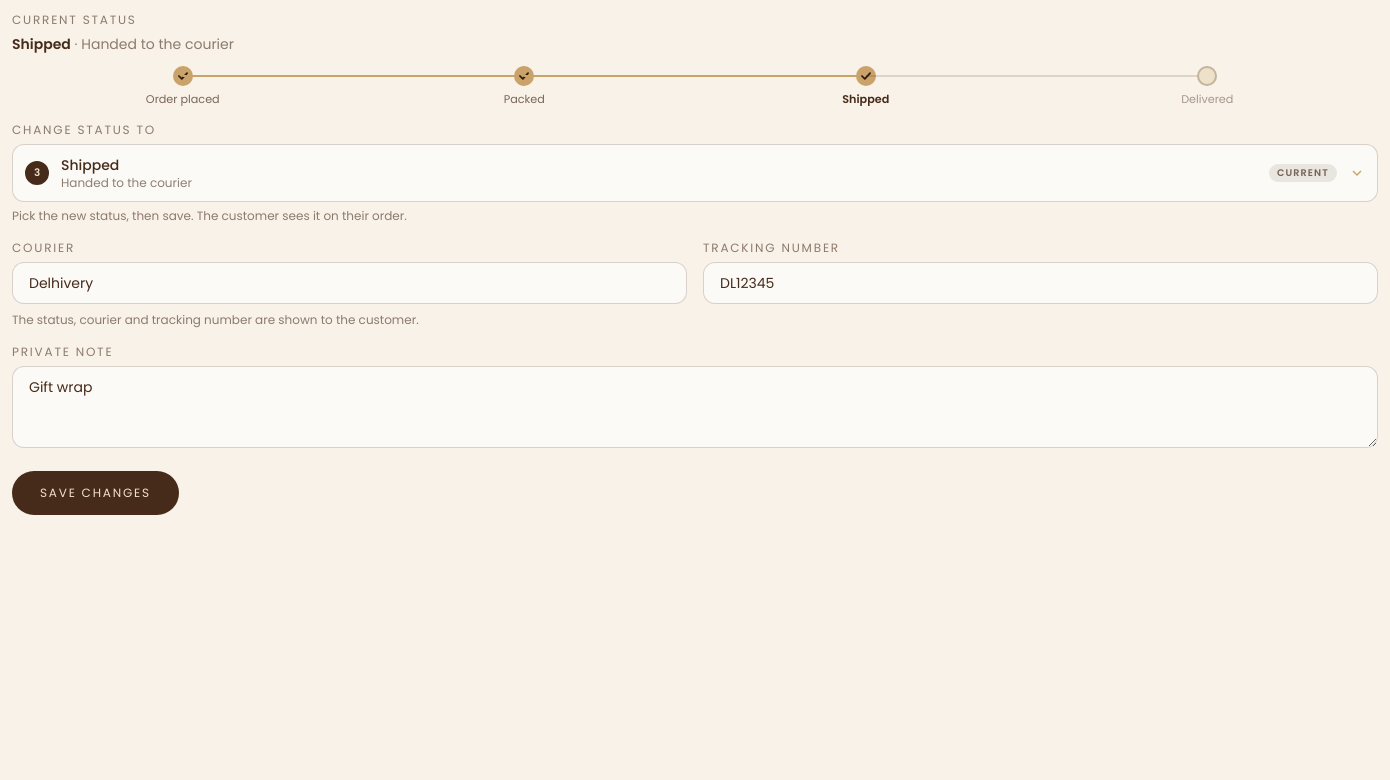
Test case: OrderUpdateForm › moving back a step is pointed out
The width and height of the screenshot is (1390, 780).
What coordinates should you click on to do the following:
click the dropdown named "Change status to"
I would click on:
 (90, 165)
Its box is [12,144,1378,202].
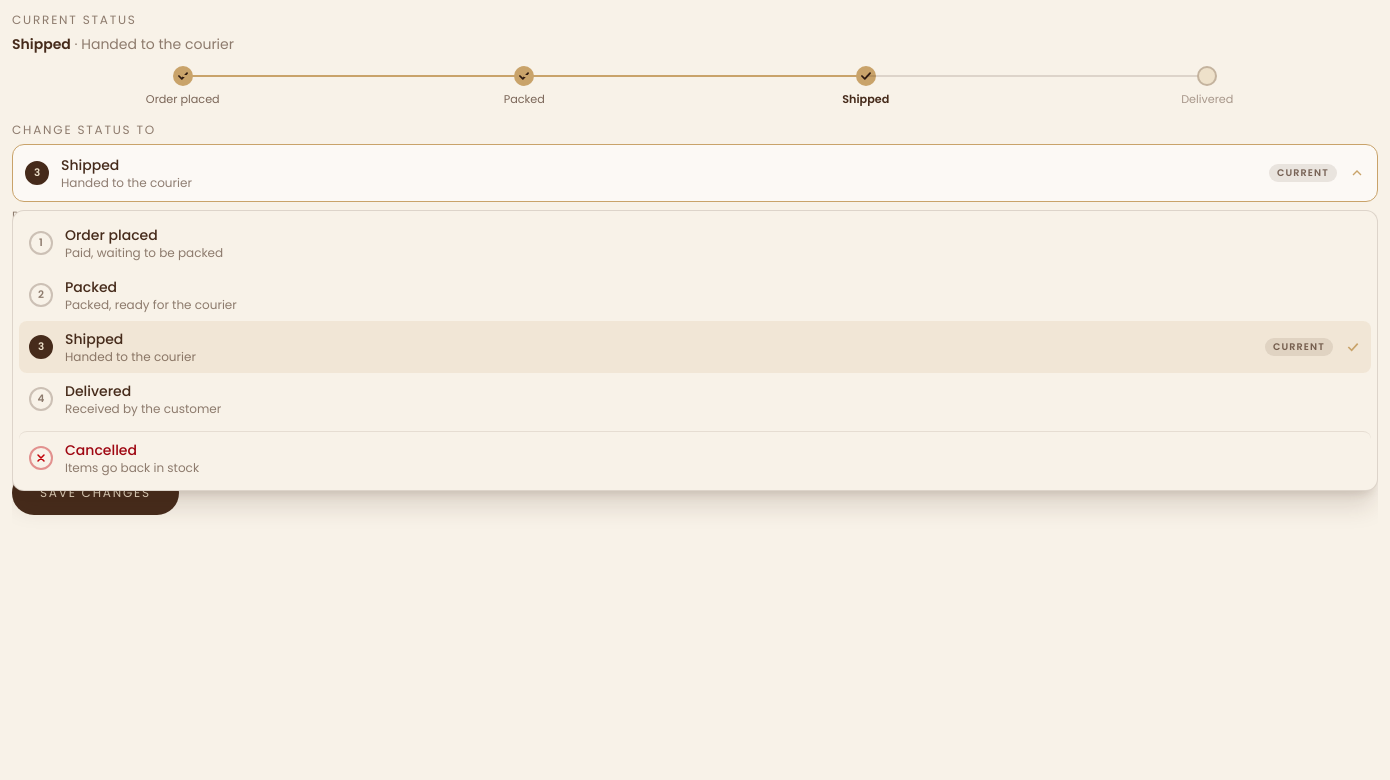
What coordinates should you click on to do the following:
click the option "2 Packed Packed, ready for the courier"
I would click on:
 (133, 295)
Its box is [29,277,237,313].
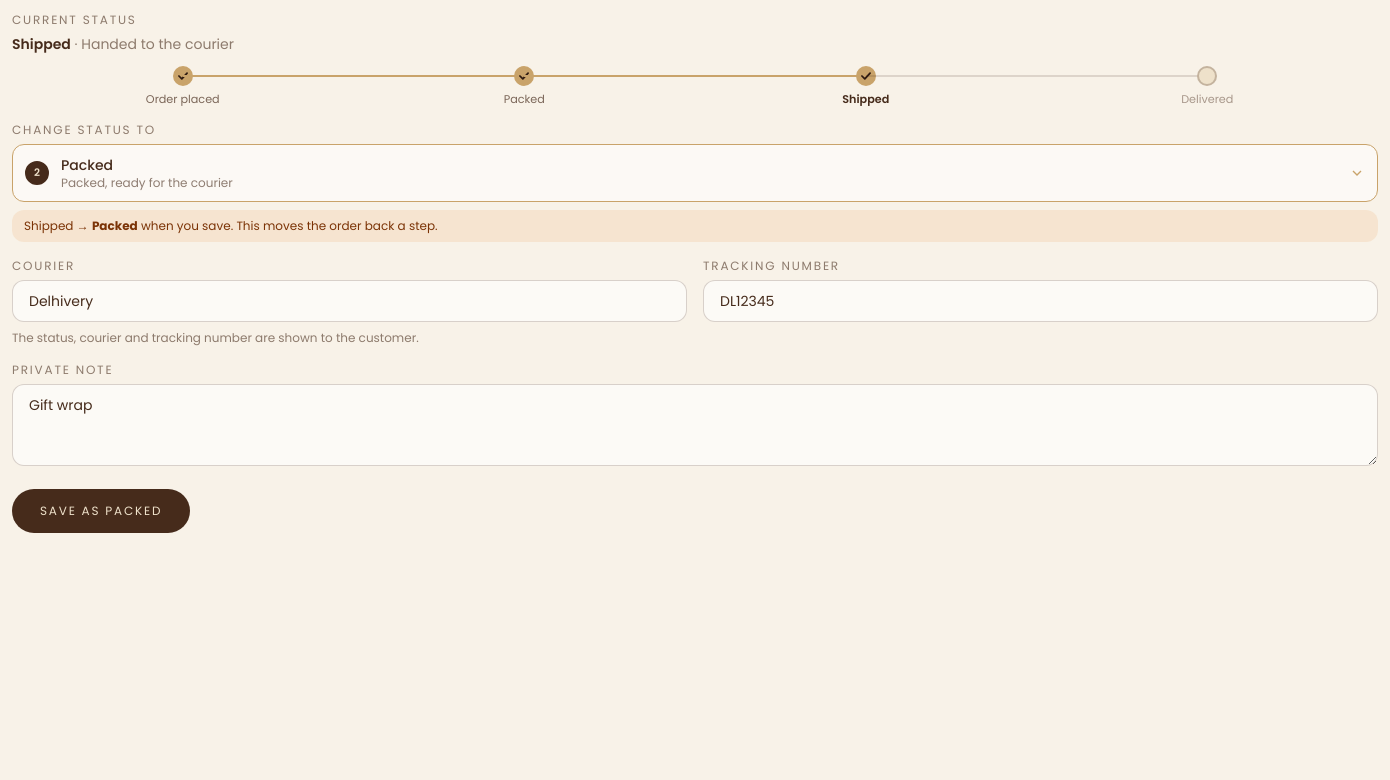
Result: the text "when you save" shows "This moves the order back a step." at [233,217,438,234]
